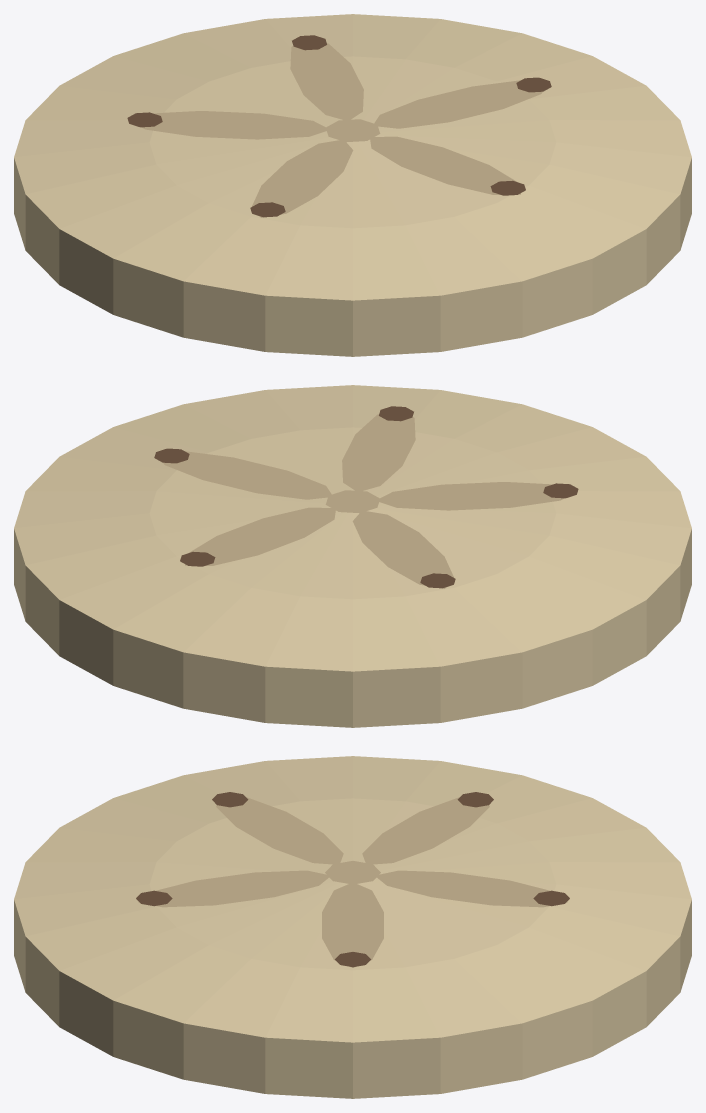
File: SandDollar.fbx
3 views of the same model, one above another, from view 1: azimuth 30°, elevation 25°; view 2: azimuth 150°, elevation 25°; view 3: azimuth 270°, elevation 25° (orthographic).
Parts seen in each view (by area): view 1: SandDollar_BodyMat_disc, SandDollar_PatternMat_petals, SandDollar_HoleMat_holes; view 2: SandDollar_BodyMat_disc, SandDollar_PatternMat_petals, SandDollar_HoleMat_holes; view 3: SandDollar_BodyMat_disc, SandDollar_PatternMat_petals, SandDollar_HoleMat_holes.
Boxes of the visible parts, x1,y1,x2,y2 form: SandDollar_BodyMat_disc: (14,14,691,356); SandDollar_PatternMat_petals: (141,43,542,217); SandDollar_HoleMat_holes: (127,35,551,217); SandDollar_BodyMat_disc: (14,385,691,727); SandDollar_PatternMat_petals: (163,414,564,588); SandDollar_HoleMat_holes: (154,406,578,588); SandDollar_BodyMat_disc: (14,756,691,1098); SandDollar_PatternMat_petals: (138,797,567,967); SandDollar_HoleMat_holes: (136,792,569,967).
Size of the model in its own units: 240 by 33 by 240.
